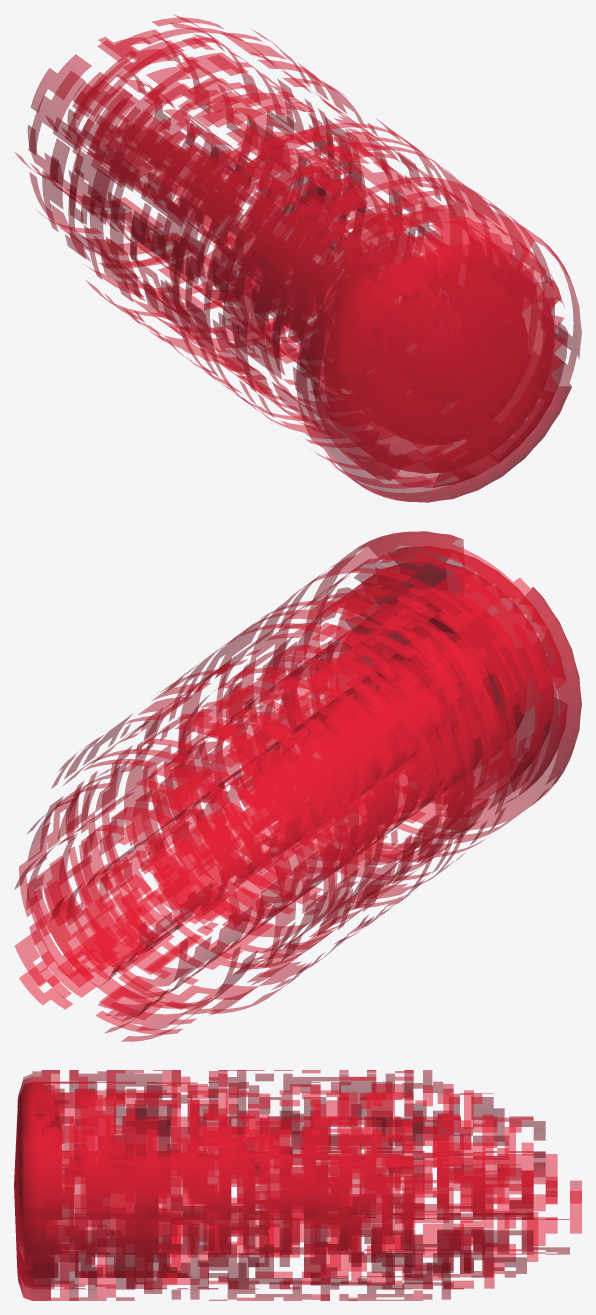
The model's file is Bot3.fbx.
The picture shows the model from 3 angles, top to bottom: view 1: azimuth 30°, elevation 25°; view 2: azimuth 150°, elevation 25°; view 3: azimuth 270°, elevation 25°; orthographic projection. The views are drawn at different scales.
Visible parts, largest first — view 1: Cylinder; view 2: Cylinder; view 3: Cylinder.
Boxes of the visible parts, <box> form: Cylinder: <box>15,15,581,502</box>; Cylinder: <box>14,531,581,1041</box>; Cylinder: <box>14,1070,581,1300</box>.
Bounding box in the file's own units: 199 × 199 × 488.
